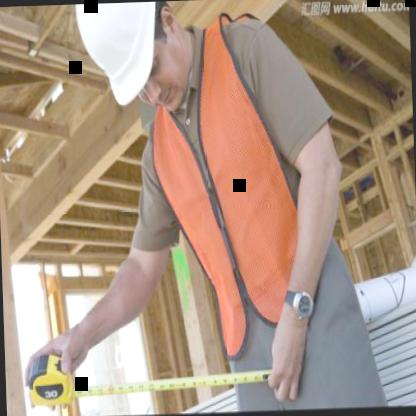helmet: (70, 0, 210, 128)
